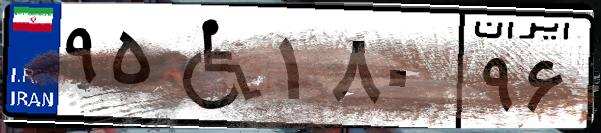0: (385, 28, 445, 110)
1: (270, 28, 330, 110)
5: (110, 28, 158, 98)
6: (525, 38, 570, 115)
8: (330, 28, 385, 110)
9: (57, 26, 110, 100), (475, 38, 525, 113)
ژ (معلولین و جانبازان): (158, 12, 270, 120)
